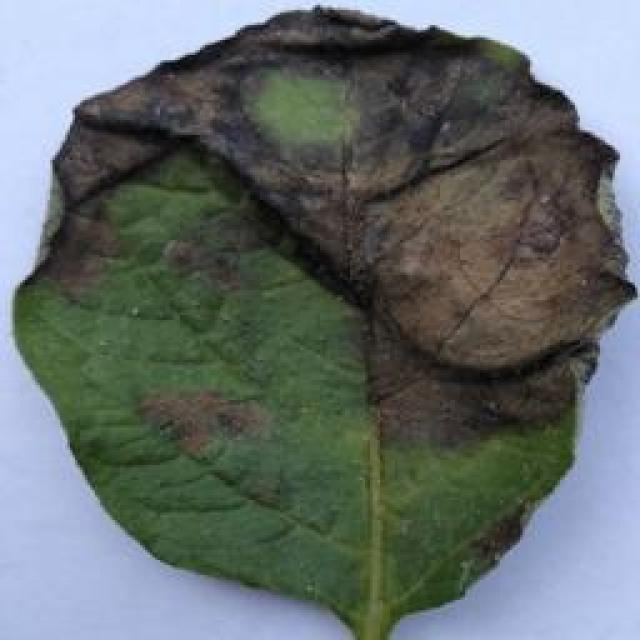Potato_Late_Blight: (7, 11, 638, 638)
